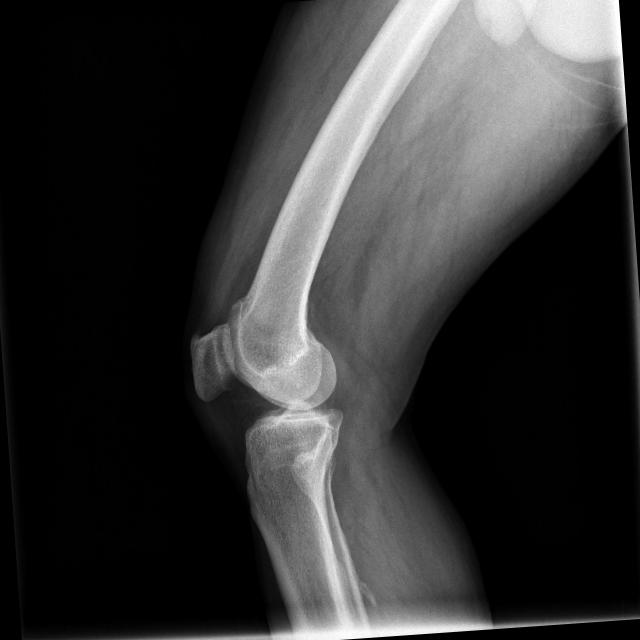Knee: (184, 296, 358, 494)
